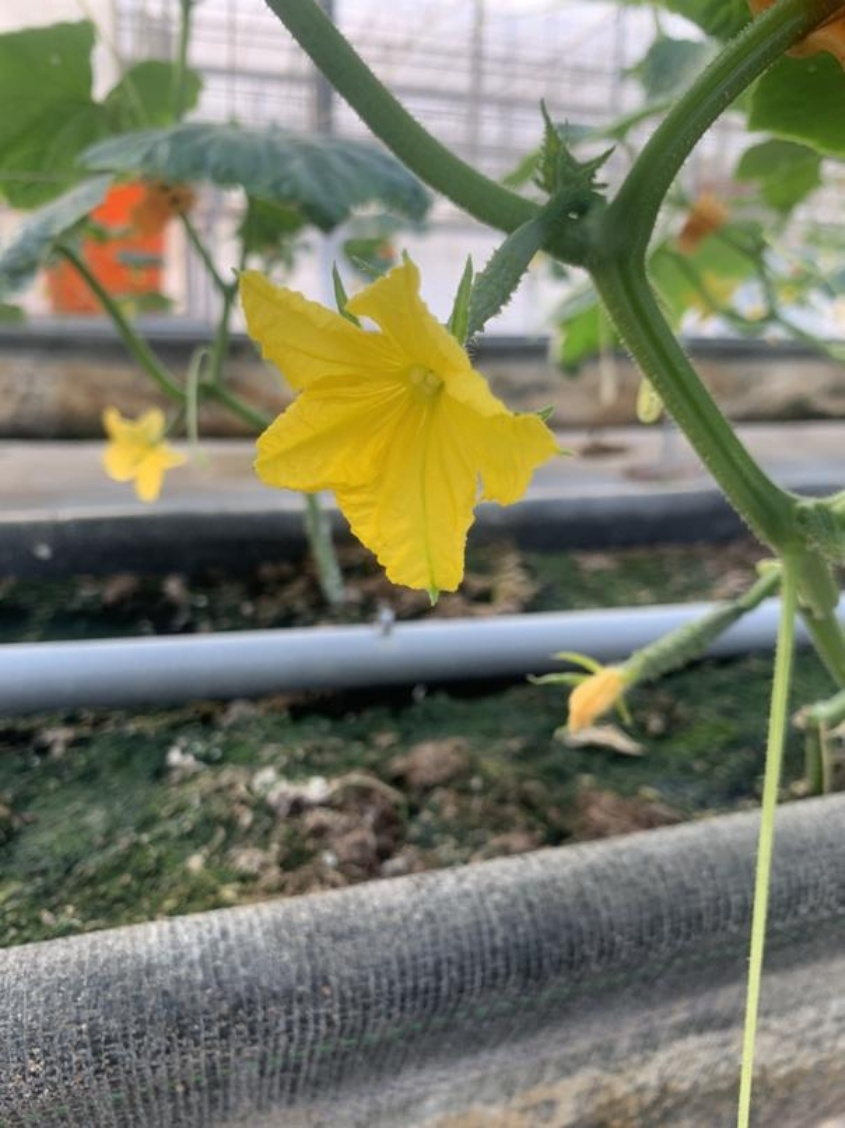mature: (226, 183, 596, 610)
